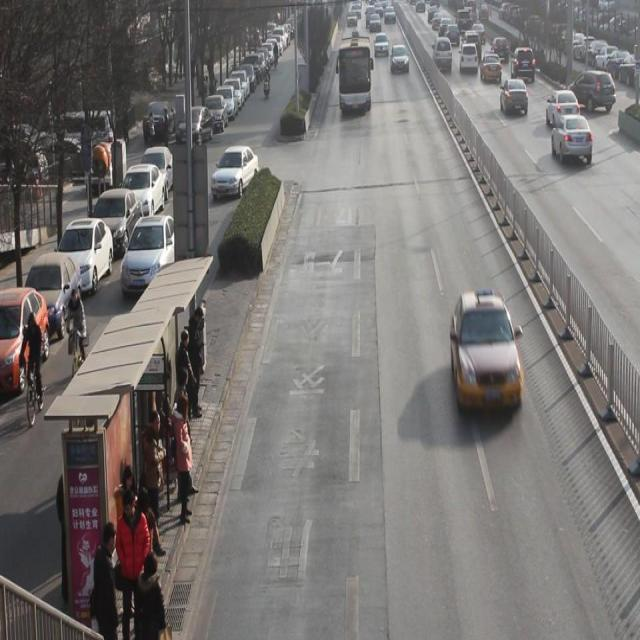car: (452, 294, 524, 414), (119, 217, 181, 296), (211, 145, 259, 199), (569, 71, 617, 116), (552, 116, 593, 165), (546, 90, 580, 130), (500, 80, 529, 118), (512, 47, 536, 83), (481, 51, 502, 83), (460, 44, 479, 72), (391, 46, 409, 75), (464, 33, 482, 59), (492, 38, 509, 65), (375, 34, 389, 60), (472, 23, 487, 46), (384, 1, 397, 26), (458, 11, 472, 32), (446, 26, 461, 44), (465, 7, 479, 25), (439, 19, 452, 38), (369, 15, 382, 34)
truck: (432, 39, 452, 74)
van: (339, 30, 370, 117)
